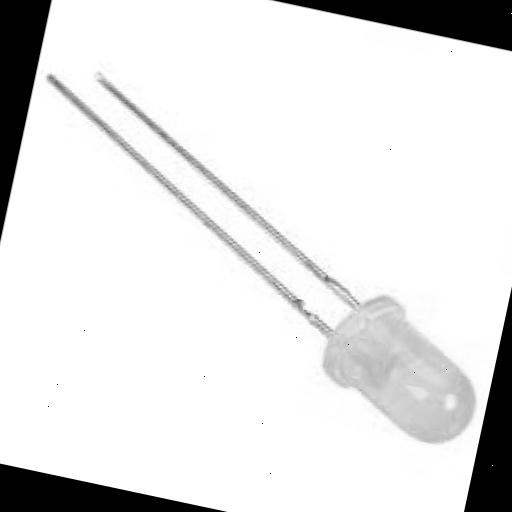LED: (0, 18, 512, 512)
